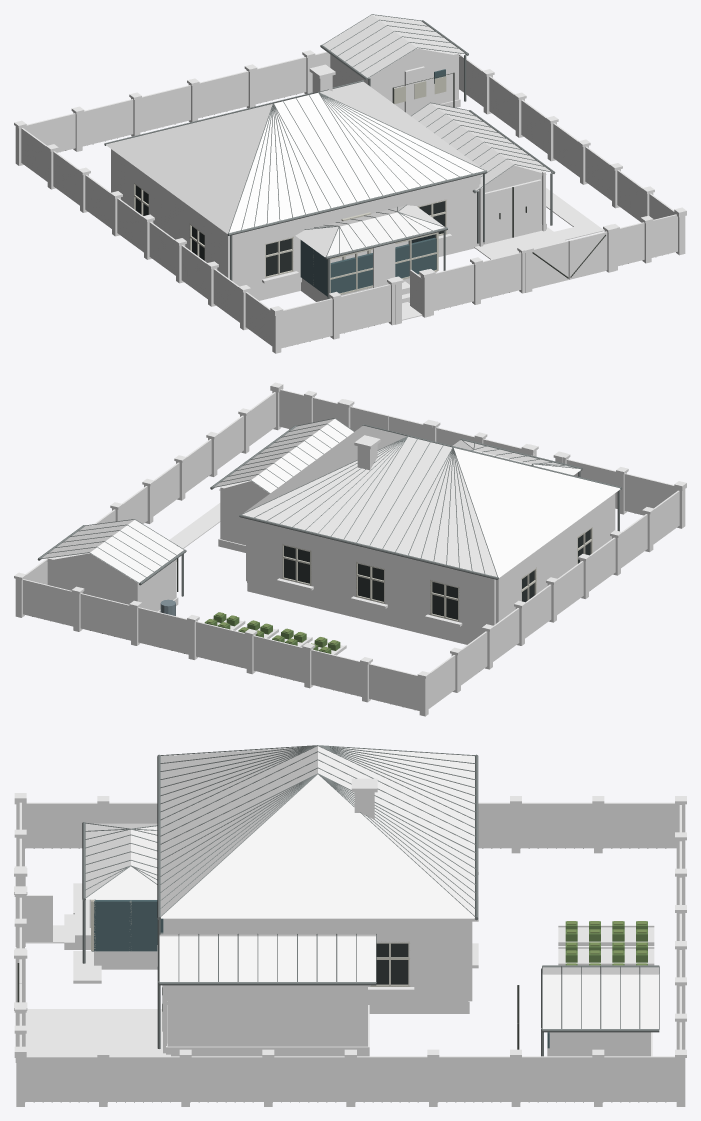
3 views of the same model, one above another, from view 1: azimuth 30°, elevation 25°; view 2: azimuth 150°, elevation 25°; view 3: azimuth 270°, elevation 25° (orthographic). The views are drawn at different scales.
Visible parts, largest first — view 1: ParcelGeometry.025, SummerPlanting.023; view 2: ParcelGeometry.025, SummerPlanting.023; view 3: ParcelGeometry.025, SummerPlanting.023.
Part boxes in pixels (x1,y1,x2,y2): ParcelGeometry.025: (14, 14, 686, 353); SummerPlanting.023: (394, 76, 446, 104); ParcelGeometry.025: (14, 382, 686, 716); SummerPlanting.023: (176, 559, 340, 653); ParcelGeometry.025: (14, 745, 686, 1106); SummerPlanting.023: (565, 921, 647, 965).
Size of the model in its own units: 18.33 by 5.96 by 20.15.
